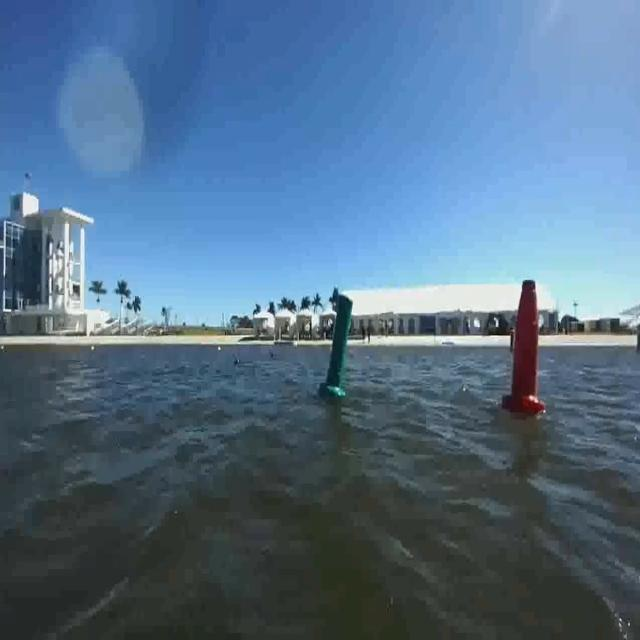green-column-buoy: (321, 292, 355, 400)
red-column-buoy: (504, 276, 548, 417)
